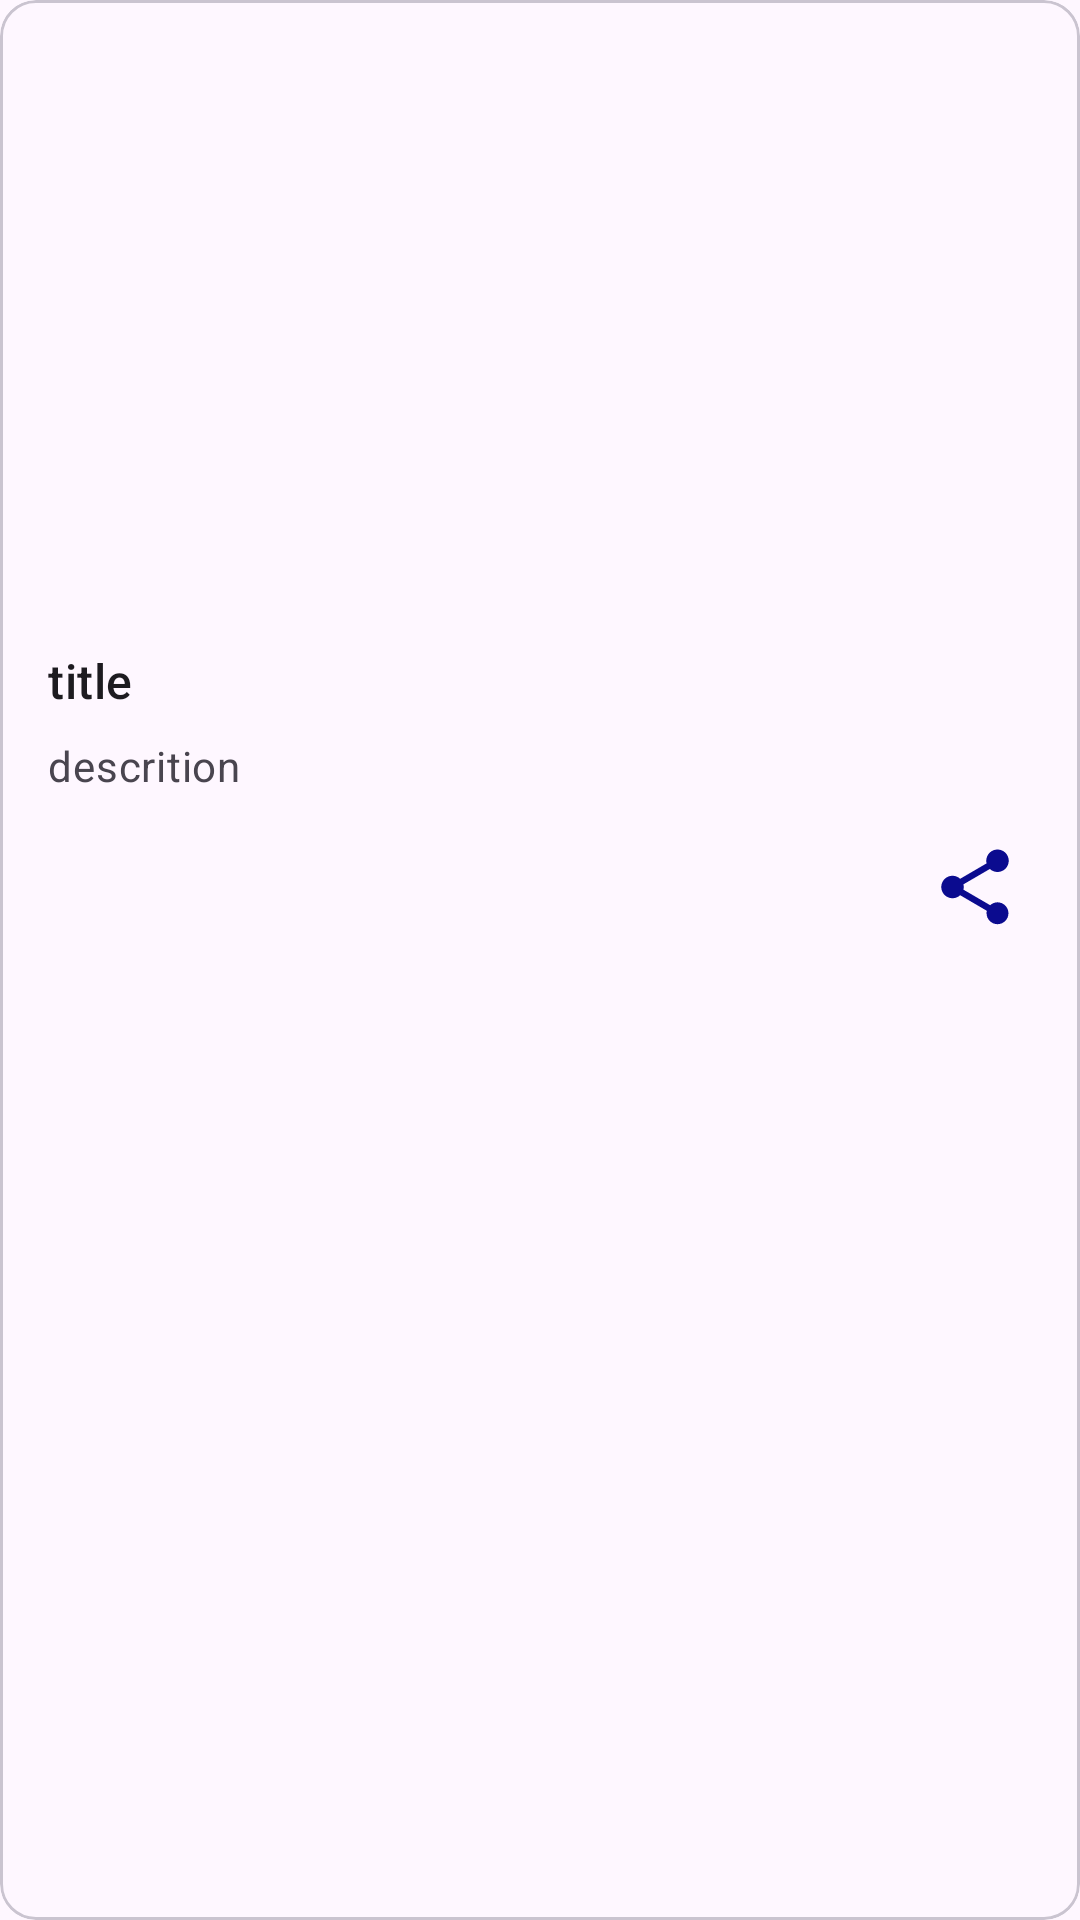

Where icons sit on this 1080x1920 app screen, as BBox(x1, y1, x2, y2):
share: BBox(941, 849, 1009, 925)
